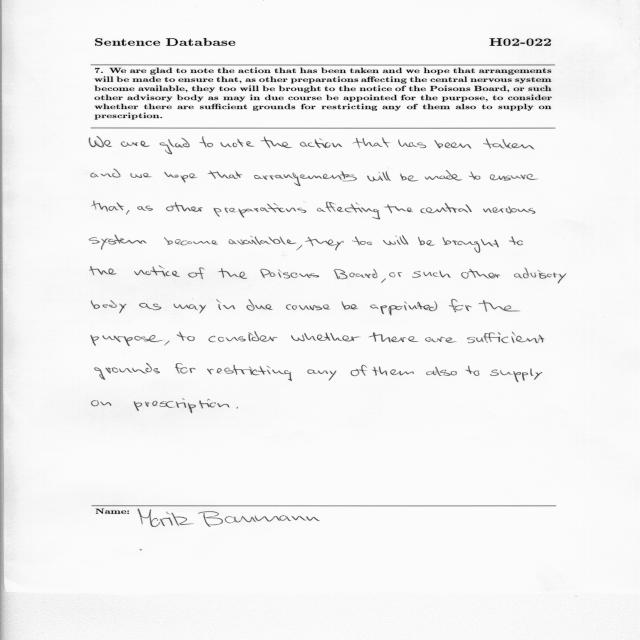word: (254, 171, 357, 186), (214, 203, 307, 218), (207, 365, 292, 381), (134, 399, 230, 413), (317, 202, 380, 220), (95, 363, 160, 380), (370, 302, 437, 316), (442, 237, 499, 253), (89, 235, 147, 250), (91, 335, 169, 346), (467, 332, 545, 343), (514, 268, 566, 284), (334, 269, 386, 283), (209, 332, 278, 342), (490, 369, 542, 382), (291, 333, 360, 342), (229, 236, 297, 245), (260, 269, 319, 279), (484, 138, 535, 149), (92, 201, 130, 215), (420, 203, 472, 213), (305, 237, 344, 250), (134, 266, 180, 277), (369, 333, 419, 343), (479, 300, 520, 312), (160, 138, 190, 154), (92, 301, 127, 314), (164, 237, 218, 245), (300, 138, 342, 148), (425, 170, 463, 181), (353, 137, 390, 148), (461, 269, 500, 279), (372, 367, 414, 376), (483, 207, 535, 214), (166, 202, 202, 212), (260, 137, 292, 148), (434, 140, 472, 149), (490, 174, 538, 181), (164, 172, 197, 182), (246, 299, 273, 311), (174, 304, 206, 314), (218, 268, 247, 279), (308, 370, 337, 381), (286, 304, 330, 311), (449, 300, 472, 313), (220, 139, 255, 147), (208, 171, 243, 179), (426, 367, 457, 376), (412, 271, 451, 278), (91, 169, 120, 178), (384, 204, 413, 213), (89, 137, 112, 148), (398, 139, 426, 148), (383, 235, 408, 245), (367, 171, 391, 181), (90, 267, 116, 276), (175, 363, 196, 374), (216, 299, 236, 310), (121, 140, 150, 147), (425, 337, 456, 343), (352, 237, 372, 246), (188, 268, 204, 279), (351, 365, 367, 376), (200, 136, 214, 148), (140, 303, 162, 310), (418, 237, 435, 246), (400, 174, 419, 182), (341, 302, 359, 310), (465, 366, 479, 376), (509, 237, 523, 246), (92, 401, 112, 407), (130, 173, 152, 178), (469, 171, 481, 180), (177, 332, 187, 341), (137, 206, 146, 211), (145, 206, 153, 211), (187, 336, 195, 341), (296, 245, 302, 251), (389, 273, 395, 278), (398, 272, 402, 277), (237, 407, 238, 409)
